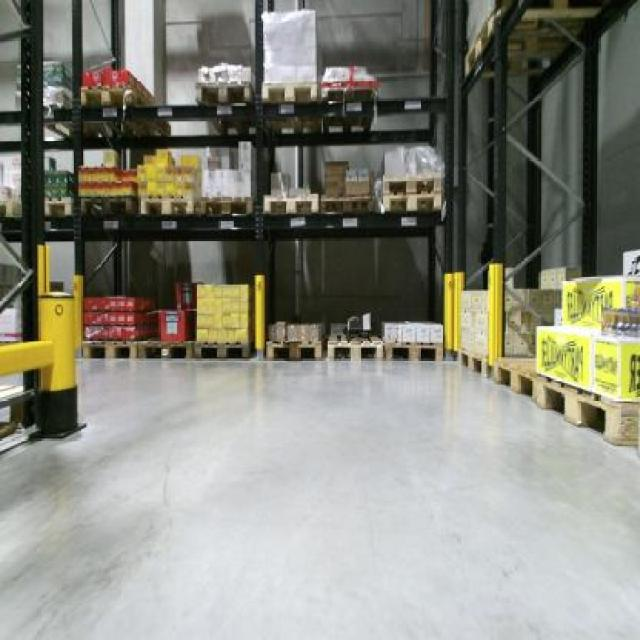pallet: (530, 374, 620, 453), (260, 332, 339, 372), (323, 324, 380, 374), (386, 172, 438, 219), (461, 12, 499, 74), (189, 81, 260, 108), (82, 335, 141, 367), (267, 76, 327, 106), (388, 336, 446, 367), (152, 336, 210, 367), (212, 191, 262, 220), (139, 195, 202, 218), (478, 348, 518, 384), (192, 340, 255, 362), (270, 192, 324, 215)
